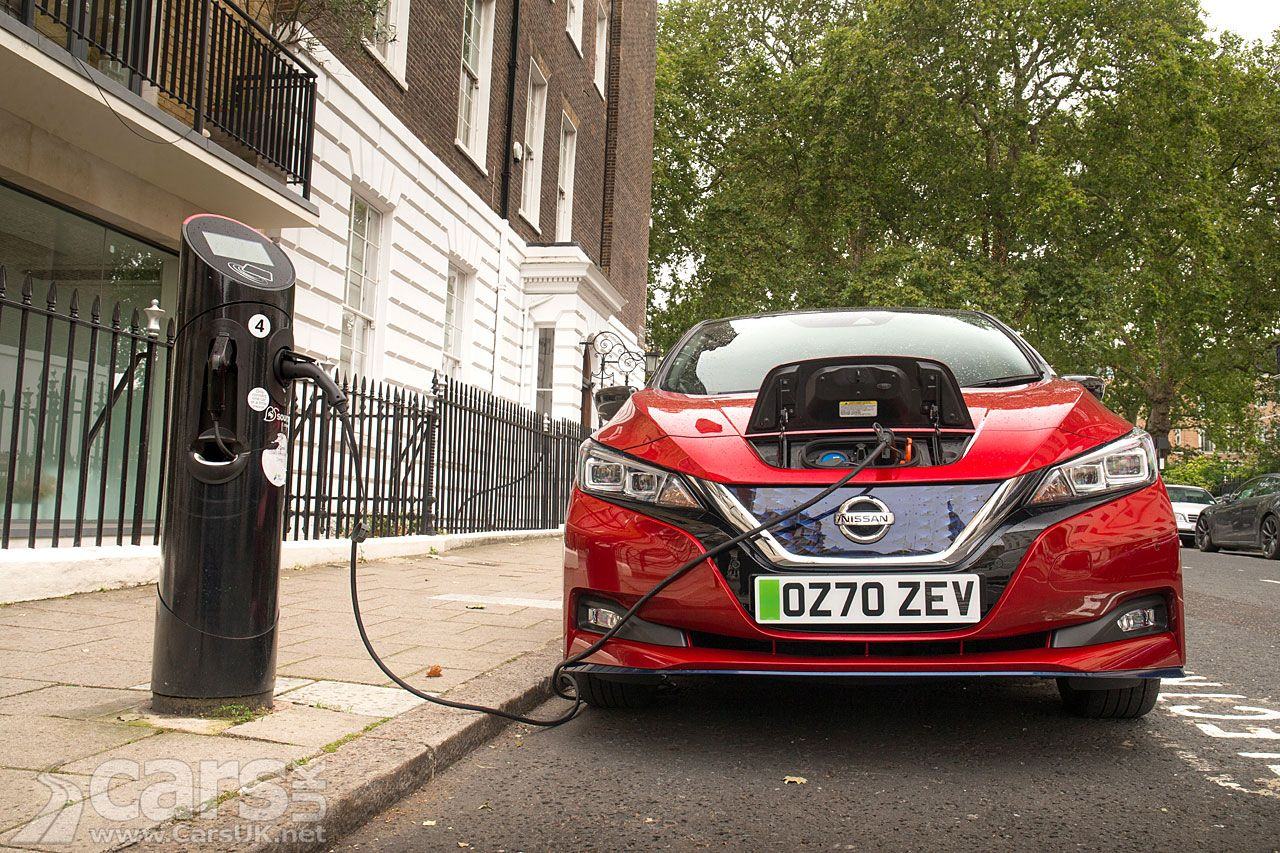number_plate: (722, 561, 1022, 659)
